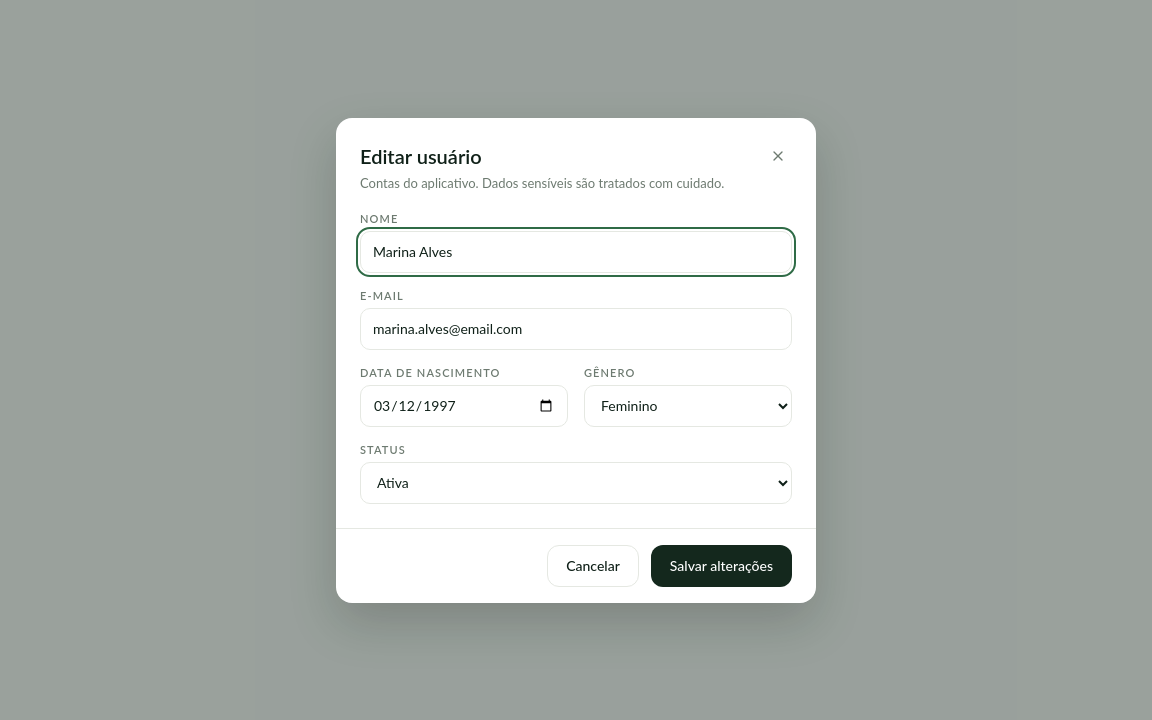
Scenario: UserFormModal › rejects birth dates outside the allowed age range
Type "1850-01-01" into the date field labelled "Data de nascimento". click: {"x": 464, "y": 406}
box: [360, 384, 568, 426]
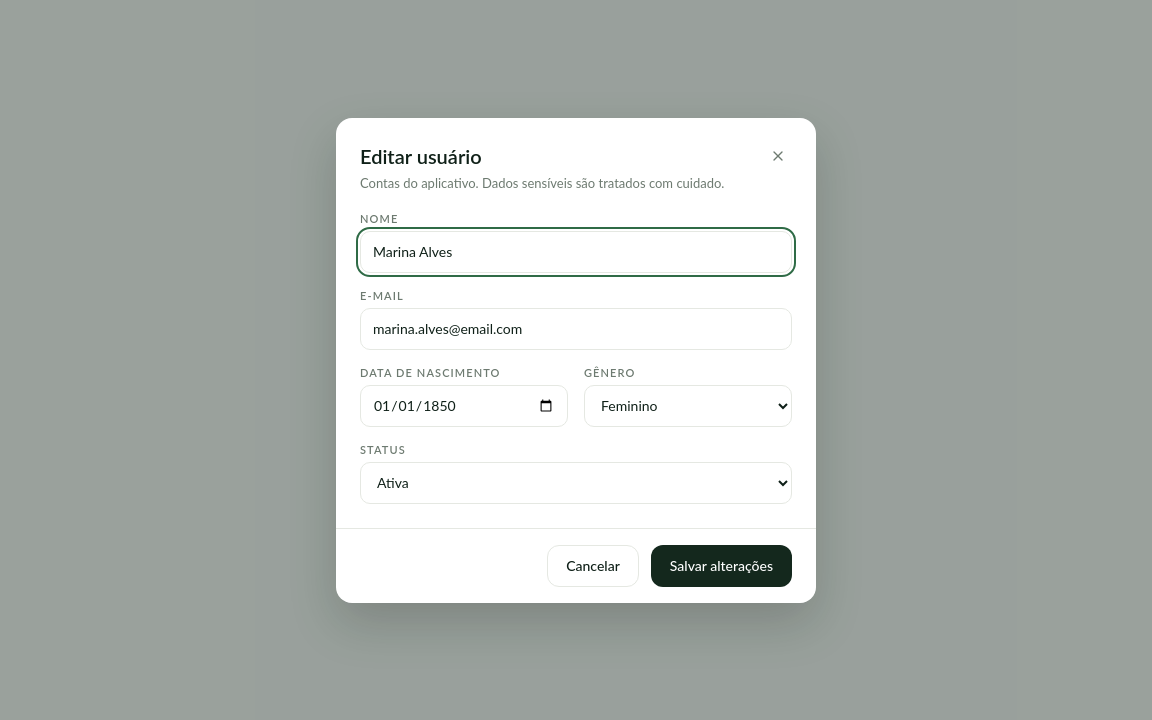
Click the button "Salvar alterações". click: {"x": 721, "y": 566}
box: [651, 544, 792, 586]
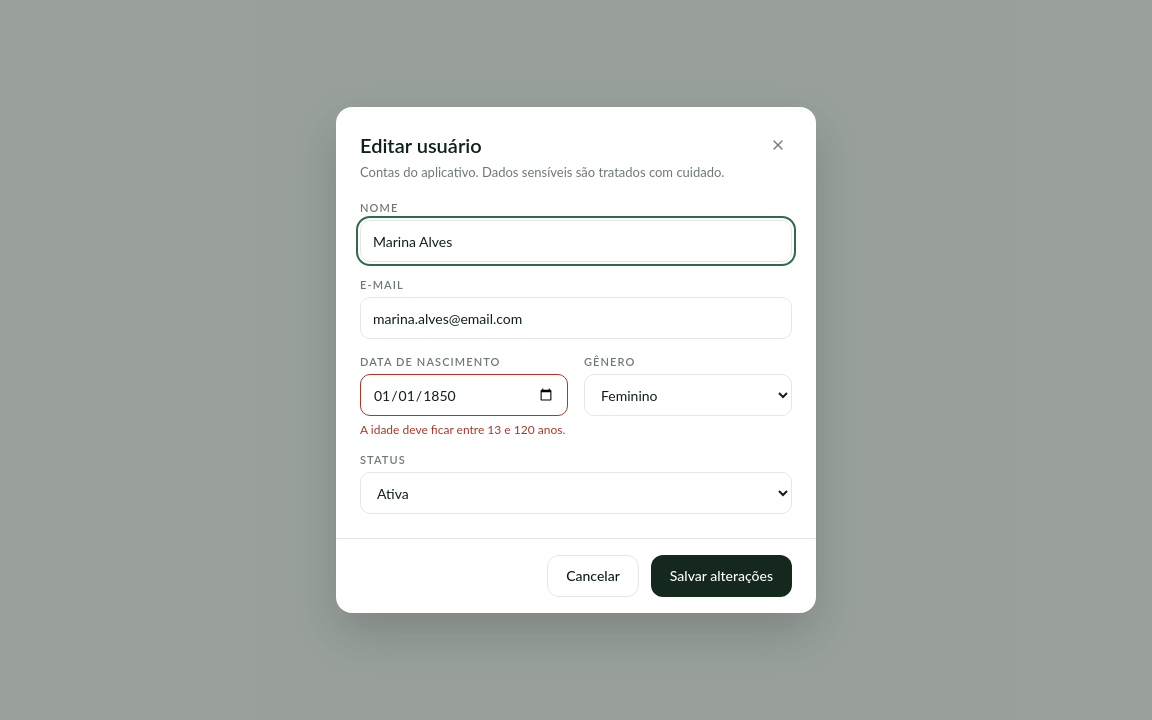
Check: the text "A idade deve ficar entre 13 e 120 anos." is shown, box [360, 422, 568, 437]
